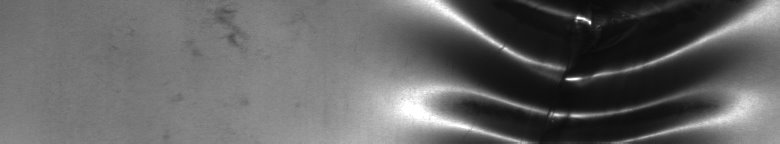ke: (432, 4, 752, 136)
